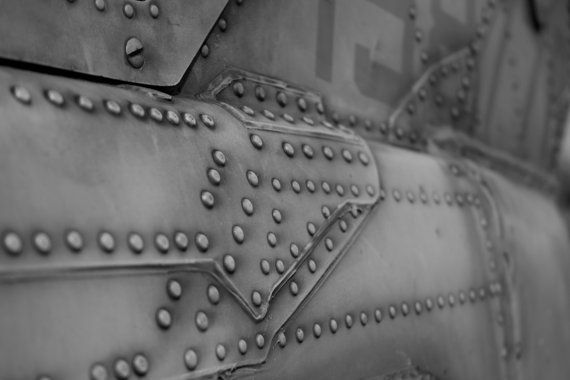rivet: (32, 228, 55, 258), (3, 229, 26, 258), (130, 351, 152, 379), (64, 228, 86, 256), (11, 84, 35, 108), (95, 229, 117, 255), (44, 86, 66, 109), (112, 356, 133, 380), (152, 230, 171, 256), (126, 232, 146, 256), (196, 190, 218, 211), (193, 308, 211, 333), (206, 281, 223, 307), (183, 346, 199, 373), (195, 231, 213, 255), (88, 360, 109, 380), (165, 280, 184, 302), (155, 308, 173, 331), (240, 194, 257, 218), (103, 97, 123, 117), (76, 94, 96, 114), (220, 251, 237, 274), (173, 230, 190, 253), (129, 102, 147, 121), (212, 146, 228, 167), (198, 114, 216, 132), (248, 132, 265, 151), (207, 168, 223, 188), (231, 224, 246, 245), (181, 110, 197, 129), (249, 289, 264, 309), (246, 167, 261, 187), (165, 110, 181, 127), (149, 107, 164, 124), (276, 90, 290, 108), (235, 338, 249, 356), (282, 141, 296, 158), (255, 85, 268, 103), (301, 143, 315, 159), (148, 3, 161, 20), (233, 81, 246, 98), (259, 257, 271, 275), (215, 343, 227, 361), (261, 108, 275, 123), (321, 145, 335, 160), (294, 326, 305, 344), (241, 105, 256, 118), (340, 148, 353, 163), (123, 3, 135, 19), (199, 44, 211, 60), (271, 208, 283, 224), (289, 243, 301, 259), (266, 232, 278, 248), (311, 322, 322, 339), (255, 332, 266, 349), (301, 115, 315, 128), (93, 1, 108, 13), (296, 96, 307, 112), (277, 331, 288, 347), (329, 318, 339, 335), (276, 258, 286, 275), (282, 112, 295, 125), (461, 76, 473, 90), (314, 102, 326, 116), (320, 180, 332, 194), (271, 177, 282, 192), (335, 181, 345, 197), (455, 91, 467, 104), (466, 57, 477, 71), (218, 19, 229, 33), (358, 151, 369, 165), (366, 184, 377, 198), (321, 205, 332, 219), (306, 222, 317, 236), (306, 179, 317, 193), (291, 180, 302, 194), (324, 238, 335, 252), (339, 219, 349, 234), (374, 309, 384, 324), (308, 258, 318, 273), (289, 281, 299, 296), (424, 298, 434, 312), (350, 184, 360, 198), (414, 300, 423, 315), (400, 302, 409, 317), (360, 312, 369, 327), (345, 314, 354, 329), (455, 195, 465, 208), (451, 109, 461, 122), (387, 305, 396, 319), (417, 91, 428, 102), (346, 117, 357, 128), (406, 191, 416, 203), (436, 296, 445, 309), (393, 190, 402, 203), (414, 33, 424, 44), (447, 294, 456, 306), (459, 292, 467, 305), (364, 121, 373, 132), (421, 54, 429, 64)
screw: (126, 36, 146, 68)
